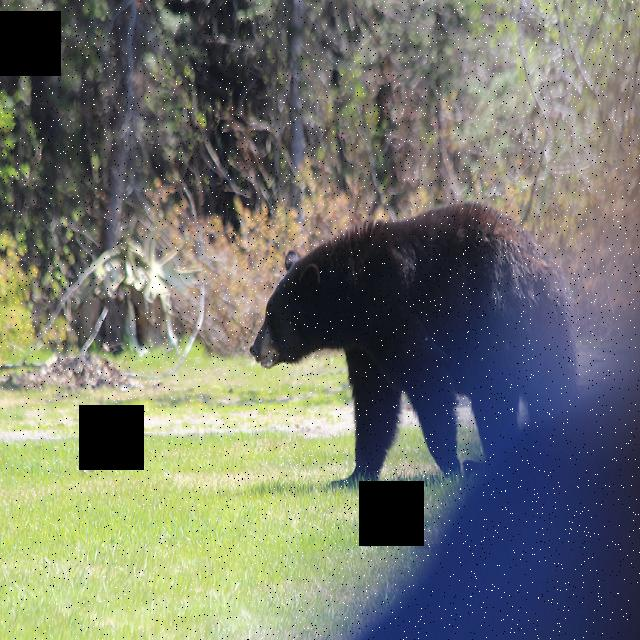Bear: (247, 207, 580, 483)
